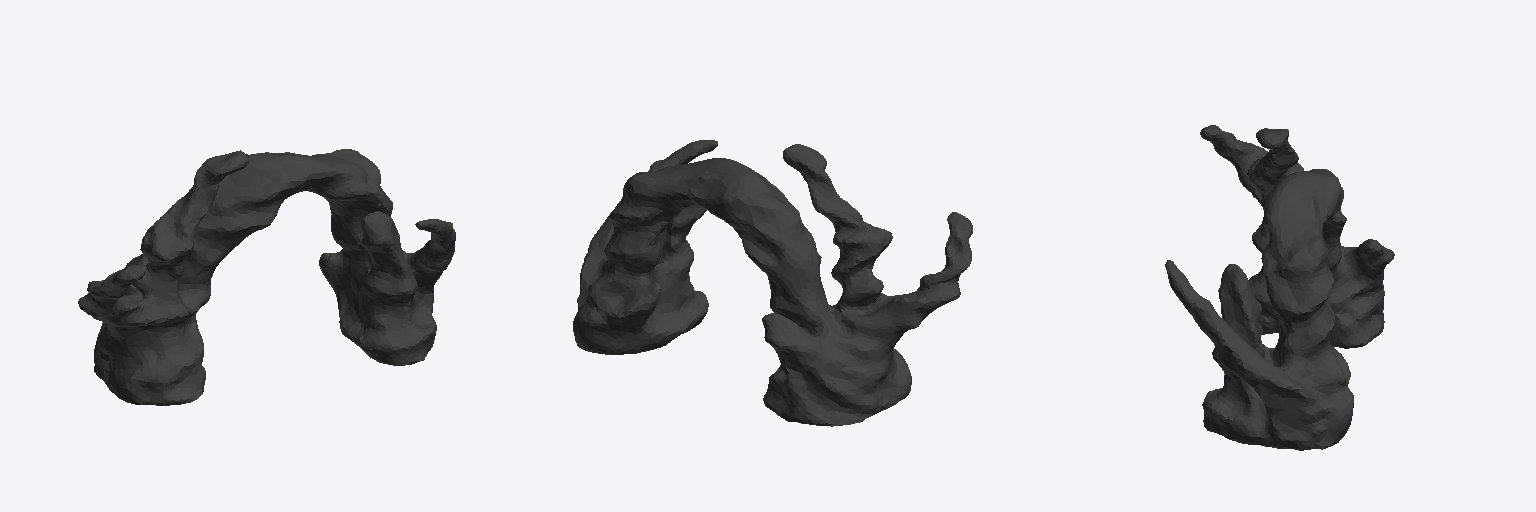
File: ArchCave.obj
3 renders of one model, left to right at view 1: azimuth 30°, elevation 25°; view 2: azimuth 150°, elevation 25°; view 3: azimuth 270°, elevation 25°, orthographic.
Parts seen in each view (by area): view 1: Arch Cave; view 2: Arch Cave; view 3: Arch Cave.
Boxes of the visible parts, <box> form: Arch Cave: <box>78,149,455,405</box>; Arch Cave: <box>573,140,972,426</box>; Arch Cave: <box>1165,125,1394,450</box>.
Size of the model in its own units: 132 by 77.41 by 71.72.